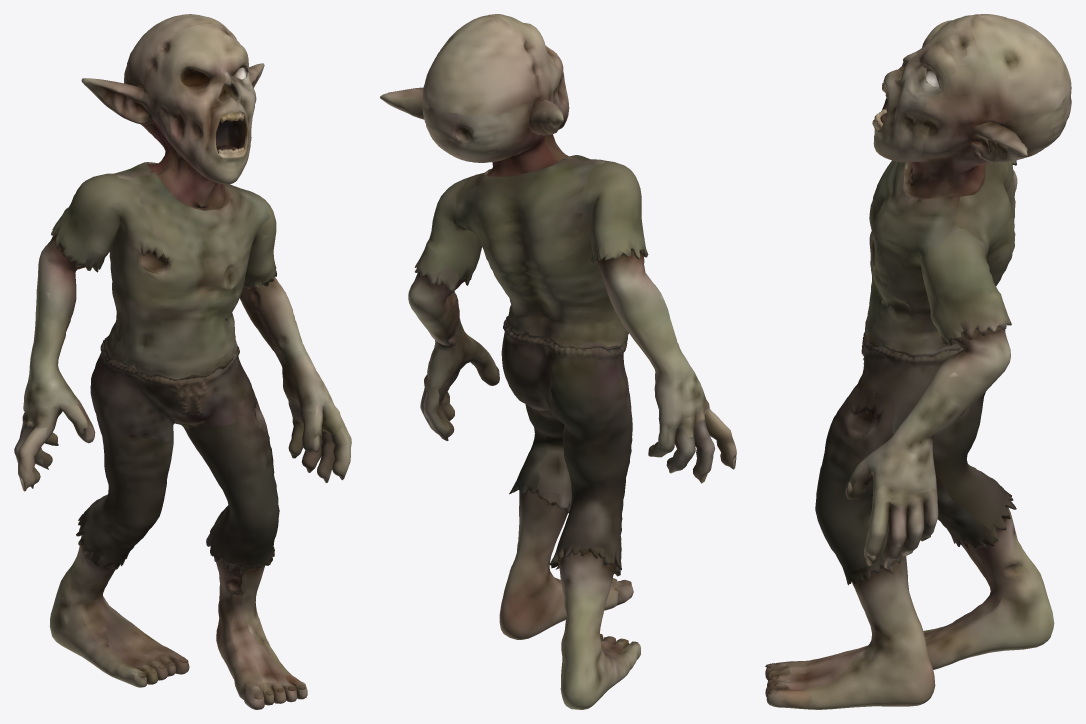
The model's file is MZ4250 - Zombie Gnome_1.glb.
3 renders of one model, left to right at view 1: azimuth 30°, elevation 25°; view 2: azimuth 150°, elevation 25°; view 3: azimuth 270°, elevation 25°, orthographic. The views are drawn at different scales.
Visible parts, largest first — view 1: Body.002; view 2: Body.002; view 3: Body.002.
Boxes of the visible parts, box(x1,y1,x2,y2) form: Body.002: box(14, 14, 351, 709); Body.002: box(380, 14, 736, 709); Body.002: box(765, 14, 1071, 709).
Bounding box in the file's own units: 30.91 × 58.33 × 23.65.
Materials: 1 (1 with a texture image).
